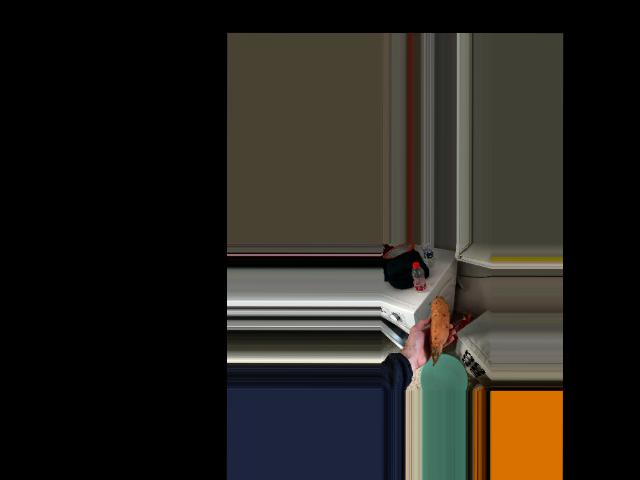sweet_potato: (427, 296, 449, 363)
